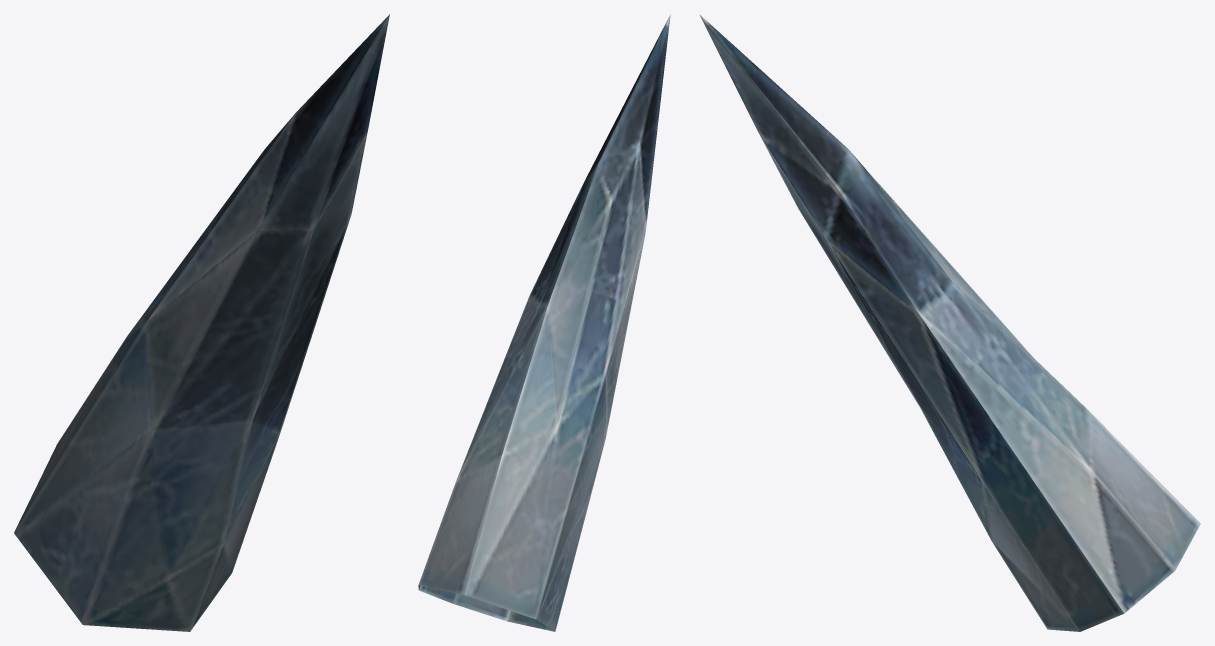
File: SpikeSingle2.fbx
3 renders of one model, left to right at view 1: azimuth 30°, elevation 25°; view 2: azimuth 150°, elevation 25°; view 3: azimuth 270°, elevation 25°, orthographic. The views are drawn at different scales.
Parts seen in each view (by area): view 1: VFX_Mesh_Object101; view 2: VFX_Mesh_Object101; view 3: VFX_Mesh_Object101.
Part boxes in pixels (x1,y1,x2,y2): VFX_Mesh_Object101: (14,14,389,631); VFX_Mesh_Object101: (418,14,670,631); VFX_Mesh_Object101: (699,14,1200,631).
Size of the model in its own units: 163 by 621 by 467.
